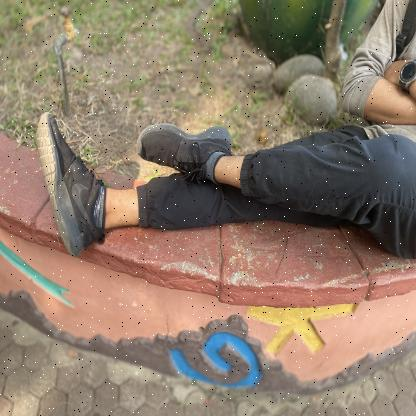leg: (115, 106, 387, 210), (13, 97, 138, 262)
